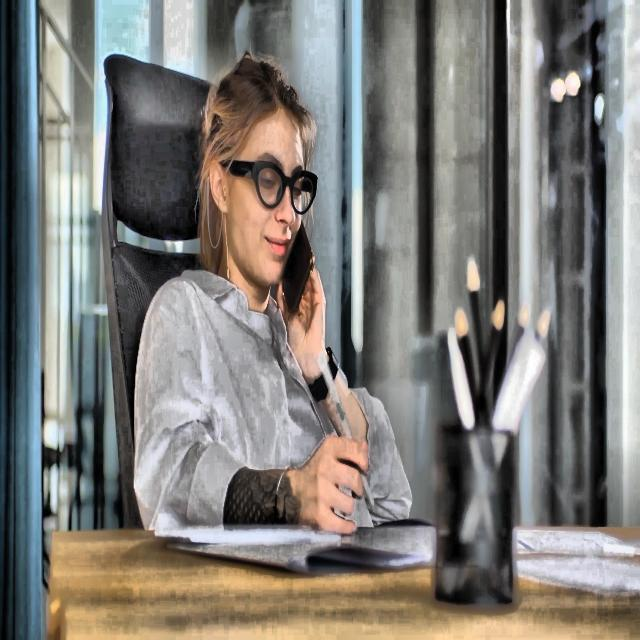Phone: (278, 215, 316, 318)
